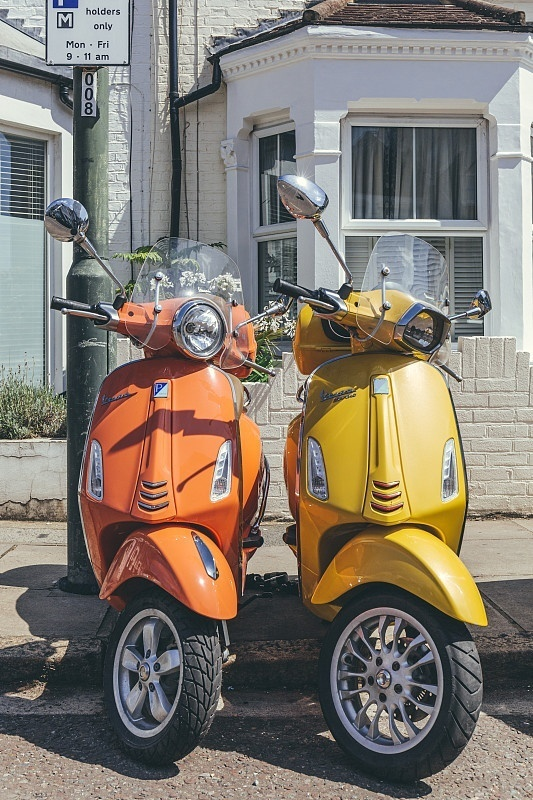non-vehicle: (52, 204, 271, 773), (287, 260, 478, 770)
